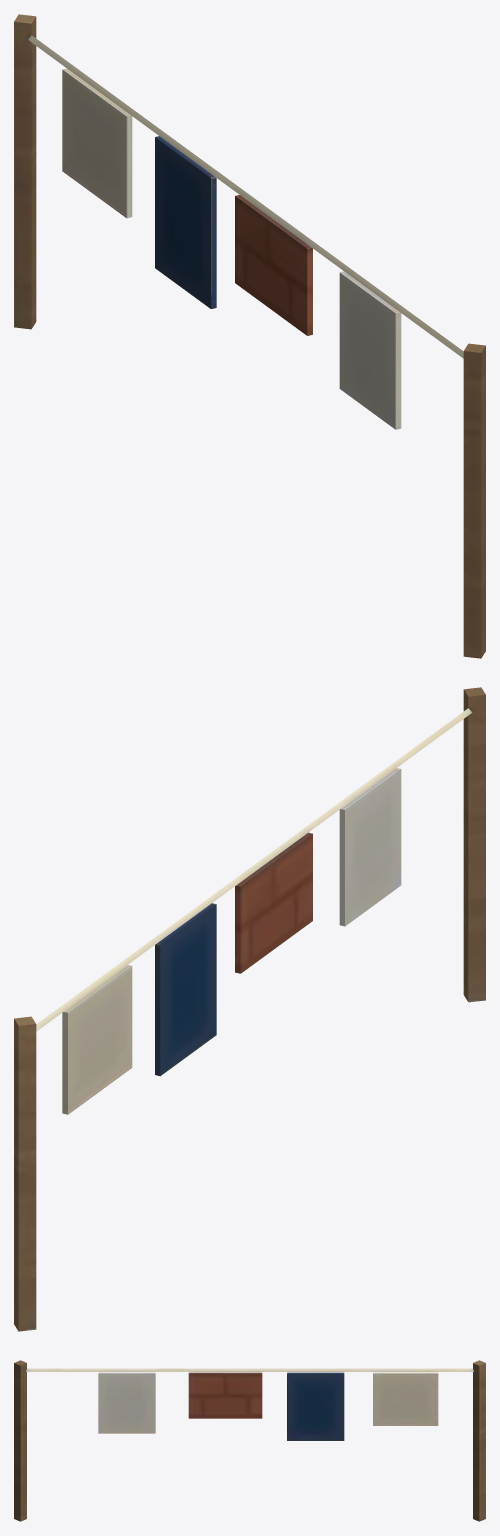
The model's file is life-laundry.glb.
The picture shows the model from 3 angles, top to bottom: view 1: azimuth 30°, elevation 25°; view 2: azimuth 150°, elevation 25°; view 3: azimuth 270°, elevation 25°; orthographic projection. The views are drawn at different scales.
Visible parts, largest first — view 1: life-laundry; view 2: life-laundry; view 3: life-laundry.
Part boxes in pixels (x1=…): life-laundry: x1=14, y1=14, x2=485, y2=658; life-laundry: x1=14, y1=687, x2=485, y2=1331; life-laundry: x1=14, y1=1360, x2=485, y2=1521.
Bounding box in the file's own units: 0.016 × 0.21 × 0.576.
Materials: 1 (1 with a texture image).
